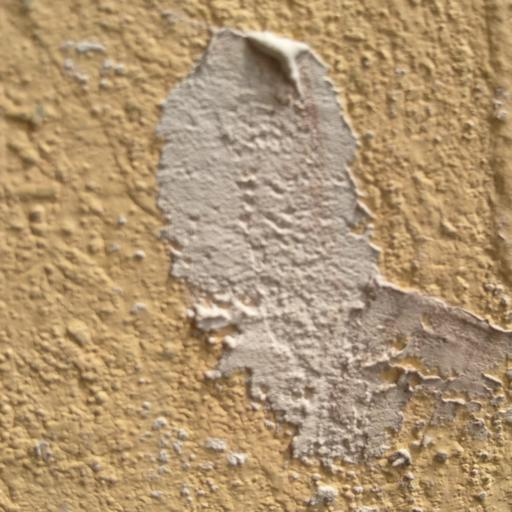stain: (145, 23, 510, 469)
